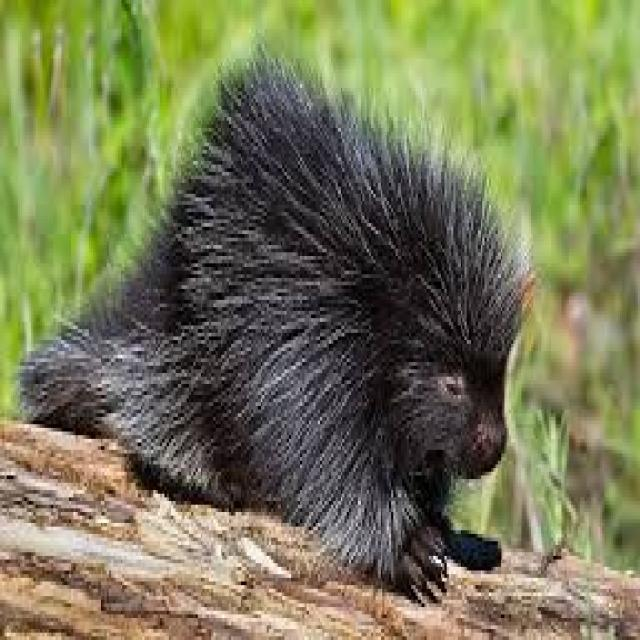Porcupine: (60, 70, 508, 574)
